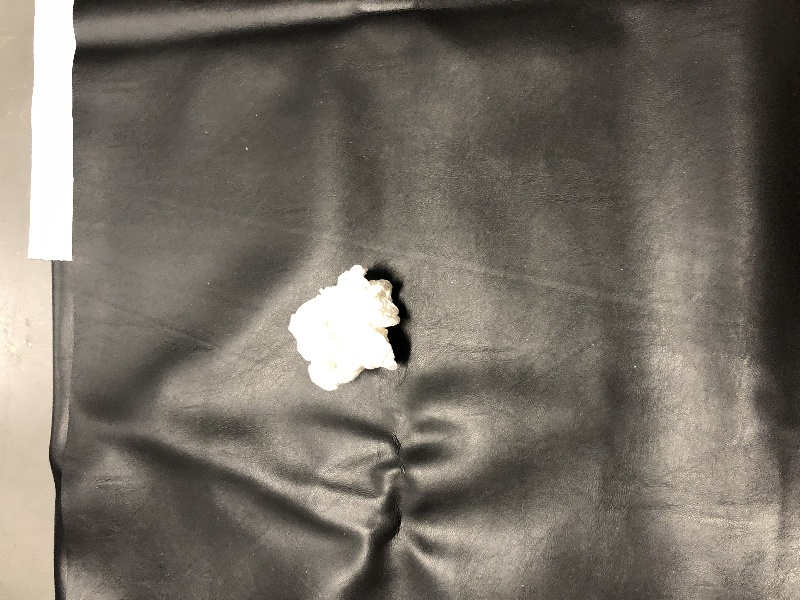paper: (282, 262, 412, 391)
